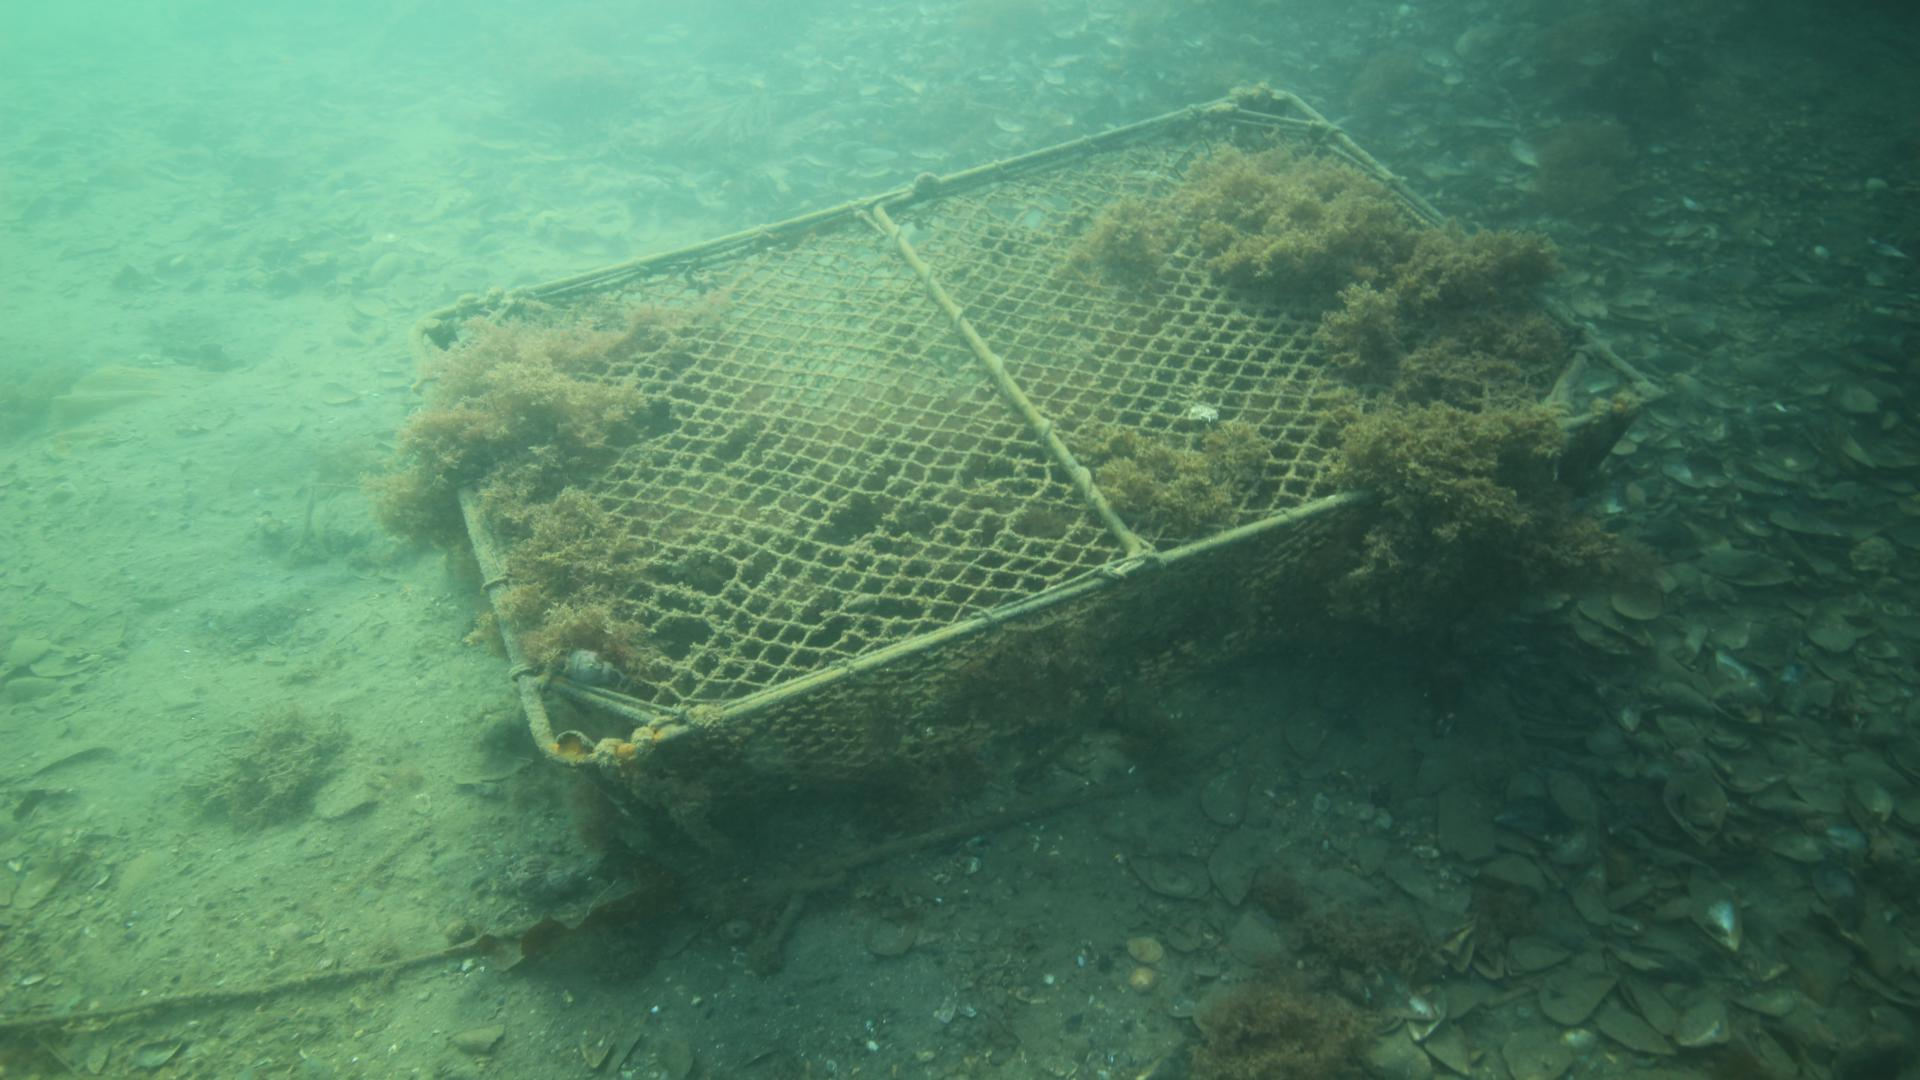rectangular fish trap: (401, 75, 1672, 862)
